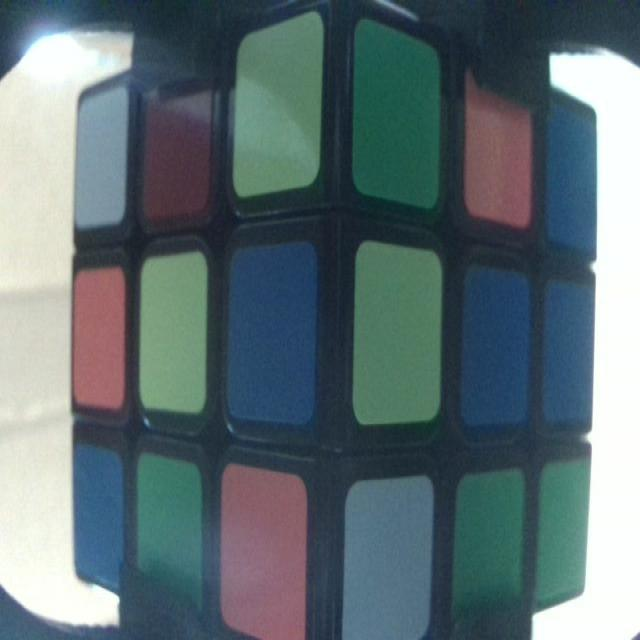b: (226, 248, 313, 430), (463, 268, 527, 431), (73, 444, 127, 583), (546, 276, 596, 418), (552, 95, 597, 252)
g: (355, 17, 443, 212), (455, 467, 522, 625), (141, 451, 204, 619), (539, 463, 591, 601)
o: (223, 460, 308, 640), (468, 68, 532, 228), (75, 269, 125, 413)
r: (144, 25, 216, 218)
w: (346, 478, 436, 636), (73, 88, 131, 228)
y: (236, 8, 323, 196), (359, 242, 441, 427), (140, 257, 210, 413)
